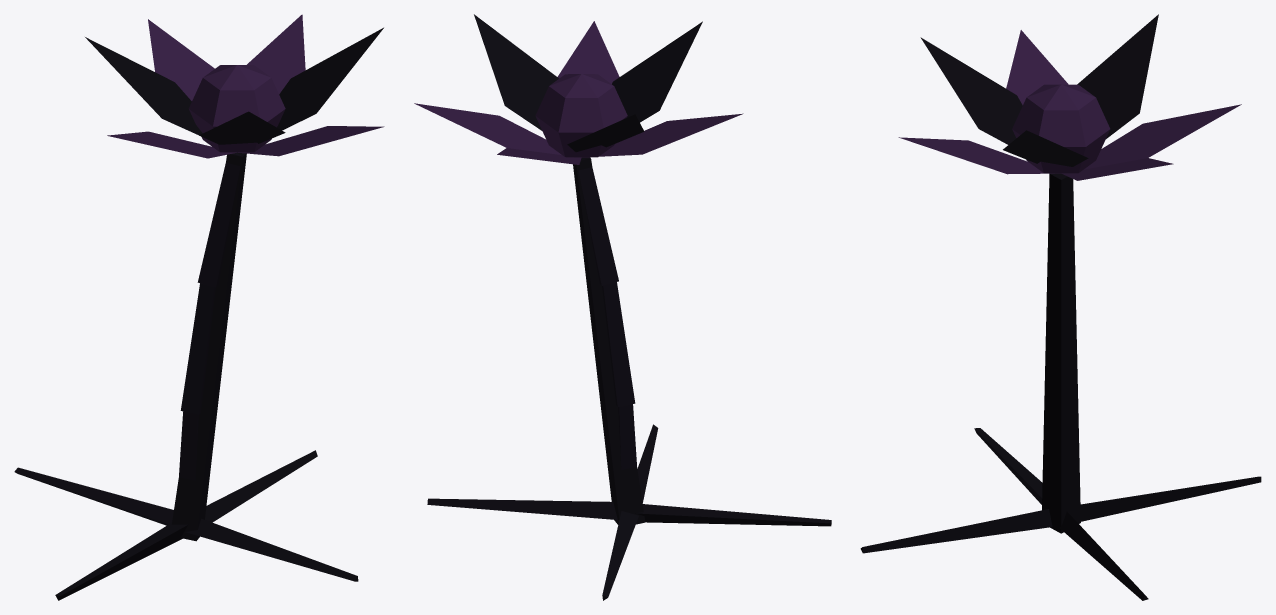
The model's file is crop_moonflower_taint.glb.
The picture shows the model from 3 angles, left to right: view 1: azimuth 30°, elevation 25°; view 2: azimuth 150°, elevation 25°; view 3: azimuth 270°, elevation 25°; orthographic projection. The views are drawn at different scales.
Parts seen in each view (by area): view 1: Crop; view 2: Crop; view 3: Crop.
Part boxes in pixels (x1,y1,x2,y2): Crop: (14, 14, 384, 600); Crop: (414, 14, 831, 600); Crop: (860, 14, 1261, 600).
Size of the model in its own units: 0.4193 by 0.5439 by 0.4078.
